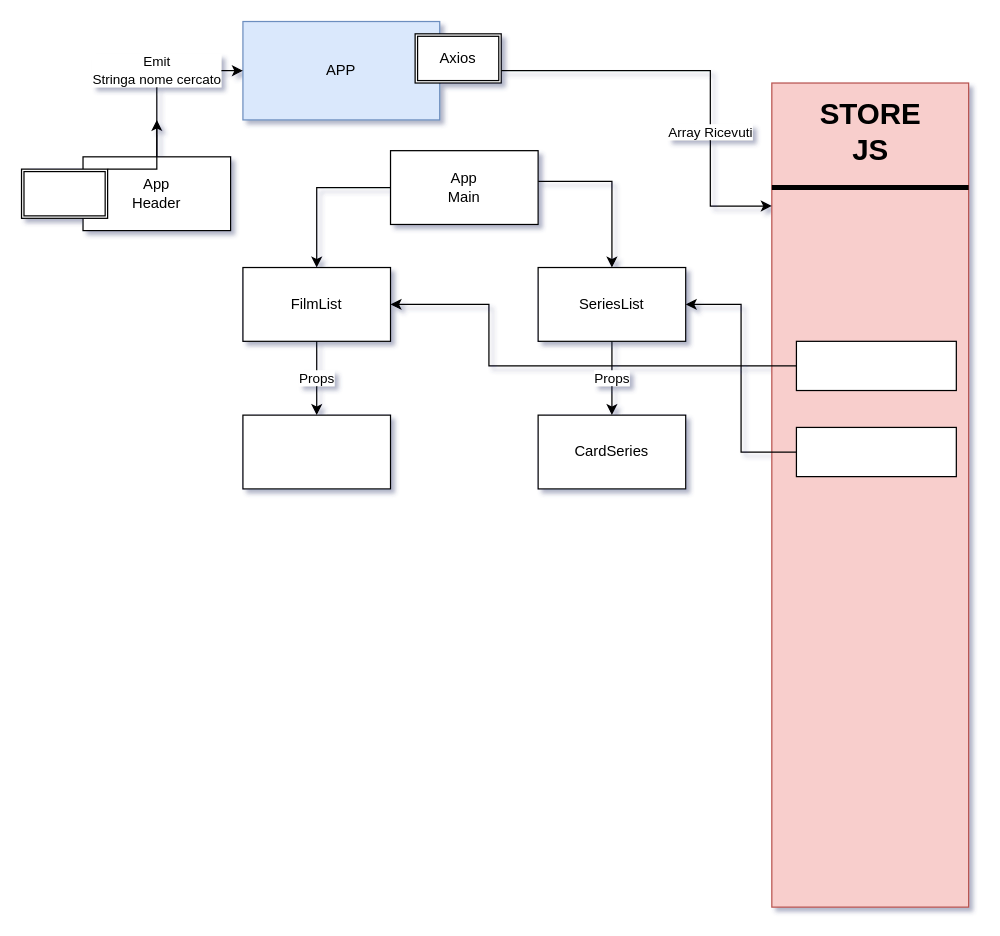
The diagram is 1000 pixels wide and 936 high, and some of its shapes have lost their labels. Each missing label, with the box of its shape:
CardFilm: (242, 414, 391, 489)
FilmSearchedList: [ ]: (795, 340, 956, 391)
input text: (20, 168, 108, 218)
SeriesSearchedList: [ ]: (795, 426, 956, 477)
